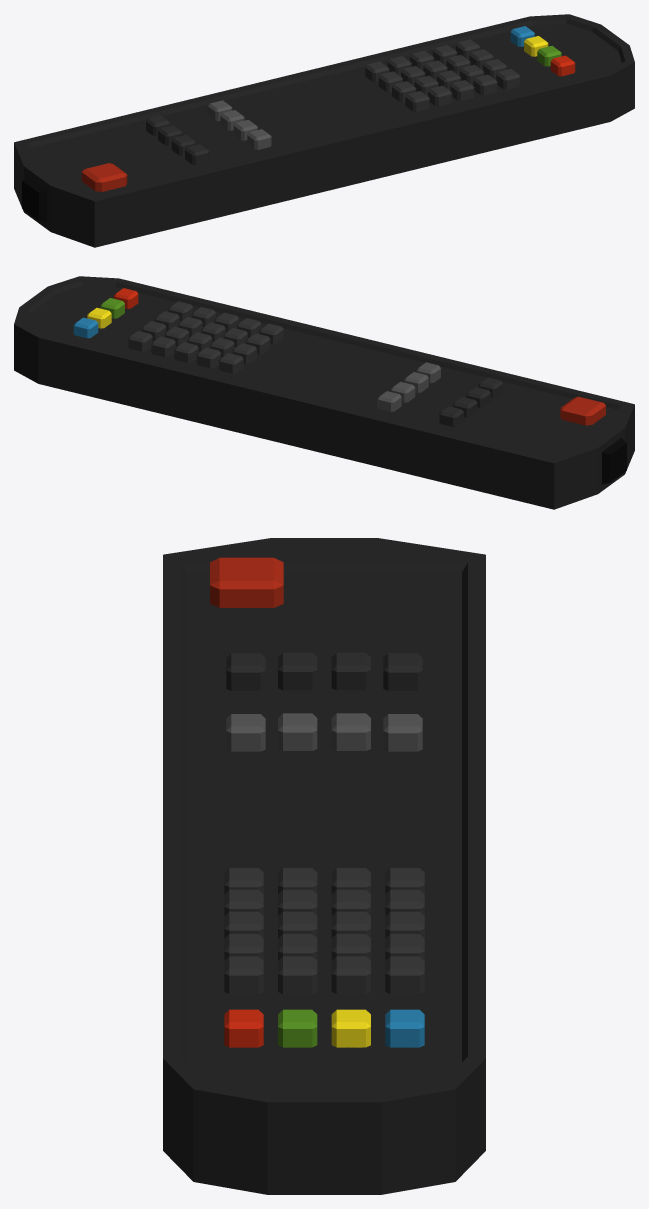
Rendered from Tv_Fernbedienung.fbx.
3 views of the same model, one above another, from view 1: azimuth 30°, elevation 25°; view 2: azimuth 150°, elevation 25°; view 3: azimuth 270°, elevation 25° (orthographic). The views are drawn at different scales.
Visible parts, largest first — view 1: Fernbedienung; view 2: Fernbedienung; view 3: Fernbedienung.
Boxes of the visible parts, x1,y1,x2,y2 form: Fernbedienung: [14, 14, 634, 247]; Fernbedienung: [14, 276, 634, 509]; Fernbedienung: [163, 538, 485, 1194].
Bounding box in the file's own units: 52.68 × 4.65 × 12.6.
